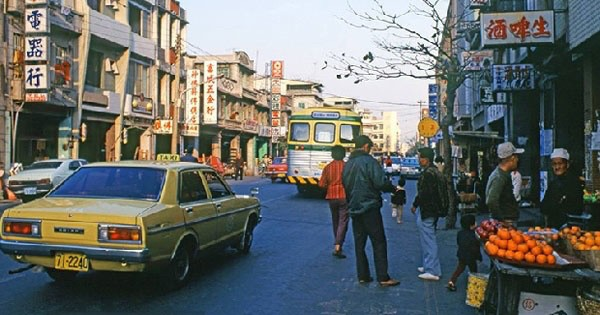people: (340, 135, 399, 282), (413, 150, 442, 285), (320, 144, 353, 252), (484, 141, 522, 227), (548, 145, 582, 226), (456, 216, 485, 290), (391, 174, 410, 227), (229, 154, 245, 185), (258, 147, 277, 169)
